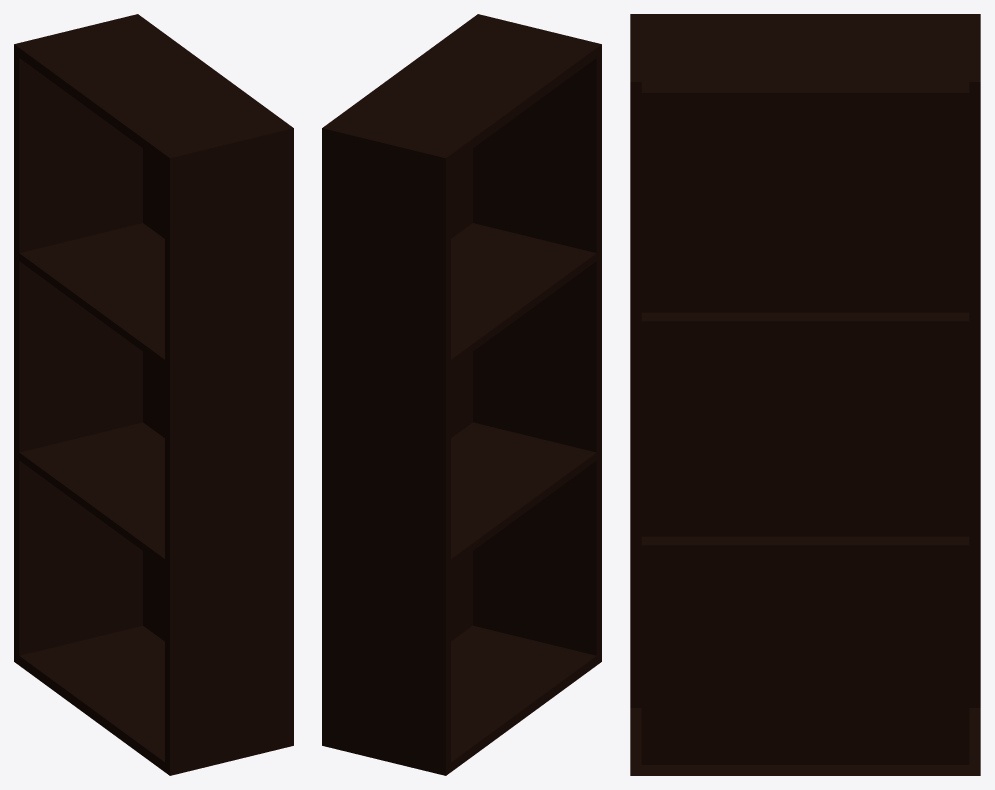
Rendered from wall1.obj.
3 renders of one model, left to right at view 1: azimuth 30°, elevation 25°; view 2: azimuth 150°, elevation 25°; view 3: azimuth 270°, elevation 25°, orthographic. The views are drawn at different scales.
Visible parts, largest first — view 1: wall.001; view 2: wall.001; view 3: wall.001.
Part boxes in pixels (box(x1,y1,x2,y2)): wall.001: box(14, 14, 293, 775); wall.001: box(322, 14, 601, 775); wall.001: box(630, 14, 980, 775).
Size of the model in its own units: 0.3073 by 1.46 by 0.6701.
